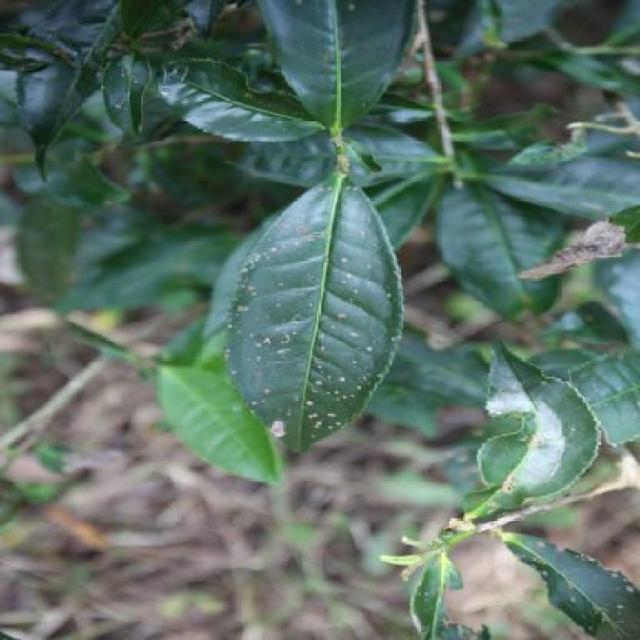Leaf rust of tea: (203, 212, 399, 457)
